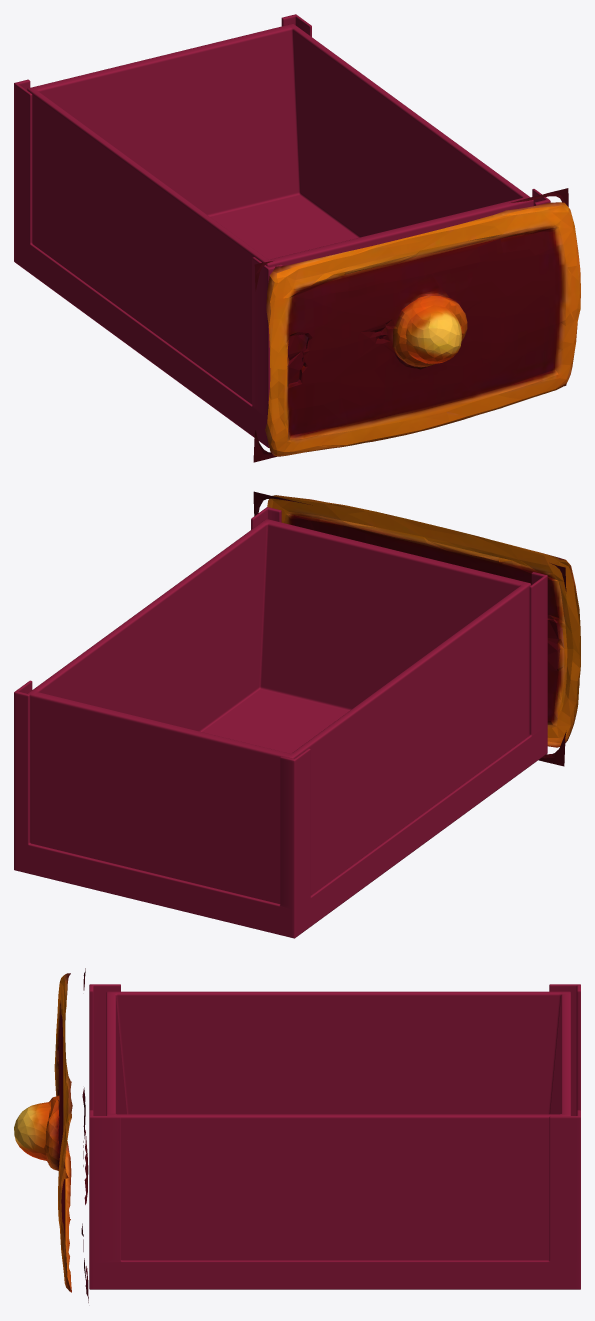
File: drawer_right.glb
The picture shows the model from 3 angles, top to bottom: view 1: azimuth 30°, elevation 25°; view 2: azimuth 150°, elevation 25°; view 3: azimuth 270°, elevation 25°; orthographic projection. The views are drawn at different scales.
Visible parts, largest first — view 1: prefab_drawer_body_3, source_front_cap_0; view 2: prefab_drawer_body_3, source_front_cap_0; view 3: prefab_drawer_body_3, source_front_cap_0.
Part boxes in pixels (x1,y1,x2,y2): prefab_drawer_body_3: [14, 14, 550, 447]; source_front_cap_0: [253, 188, 580, 462]; prefab_drawer_body_3: [14, 507, 547, 938]; source_front_cap_0: [253, 491, 580, 766]; prefab_drawer_body_3: [89, 984, 580, 1289]; source_front_cap_0: [14, 968, 88, 1302].
Bounding box in the file's own units: 0.328 × 0.1989 × 0.5321.
2 materials, 1 textured.
